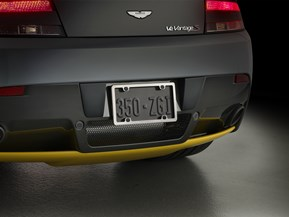license plate: (110, 84, 178, 122)
